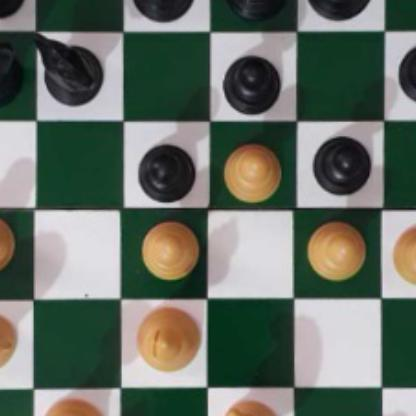black-bishop: (223, 0, 291, 23), (131, 0, 195, 21)
black-king: (303, 0, 377, 23)
black-knight: (32, 32, 103, 102), (0, 41, 21, 103)
black-pawn: (221, 46, 283, 113), (311, 129, 371, 195), (138, 136, 197, 201), (397, 39, 416, 103), (0, 0, 23, 17)
white-bishop: (136, 302, 201, 370)
white-knight: (219, 397, 285, 416), (0, 313, 19, 370)
white-pawn: (305, 217, 366, 280), (221, 138, 283, 199), (140, 217, 199, 280), (390, 217, 416, 287), (0, 212, 13, 272)
white-queen: (39, 392, 105, 416)
